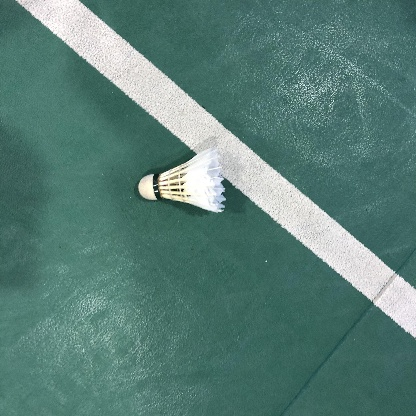ball_single: (139, 147, 226, 213)
